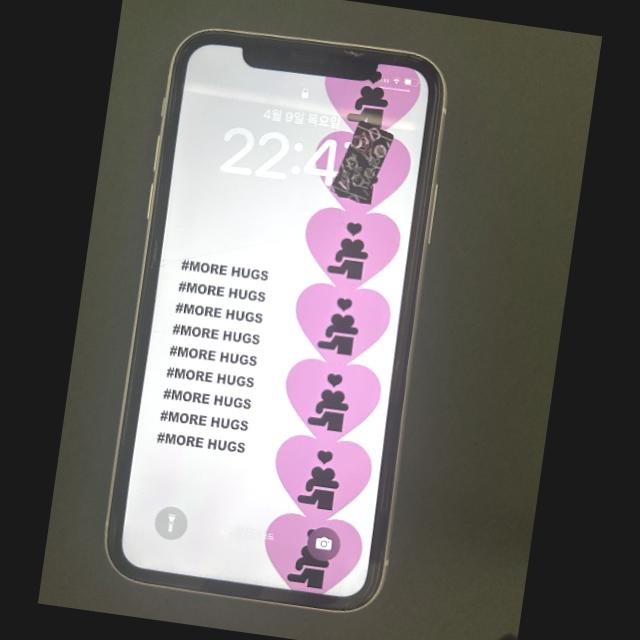phone: (107, 31, 445, 610)
sticker: (330, 120, 395, 205)
